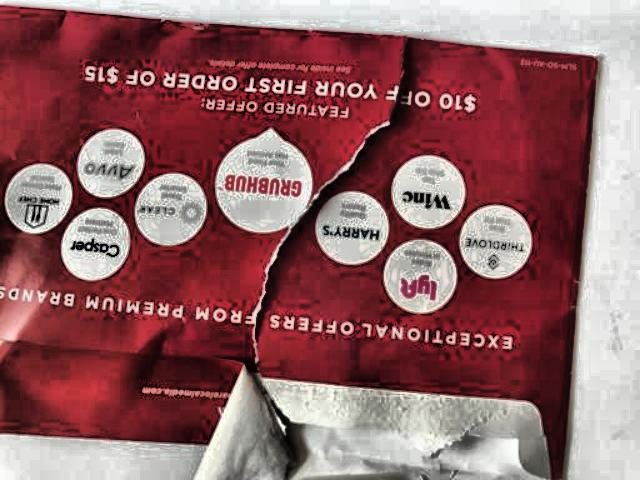Paper: (7, 10, 610, 436)
